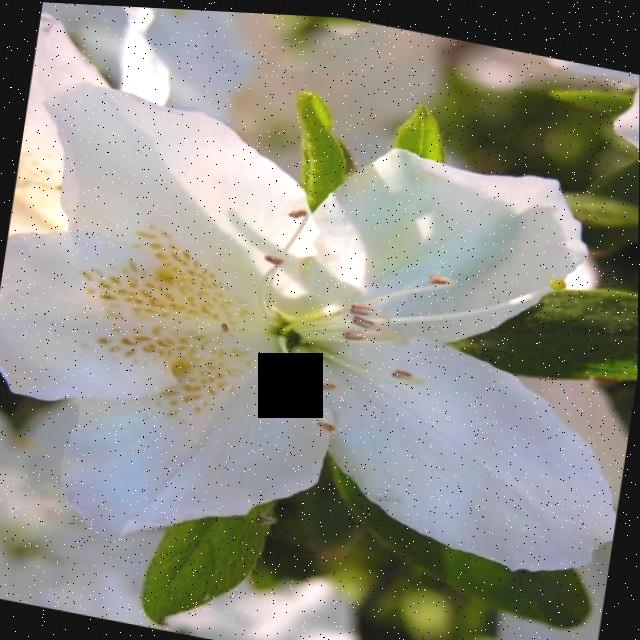azalea: (0, 45, 640, 618)
